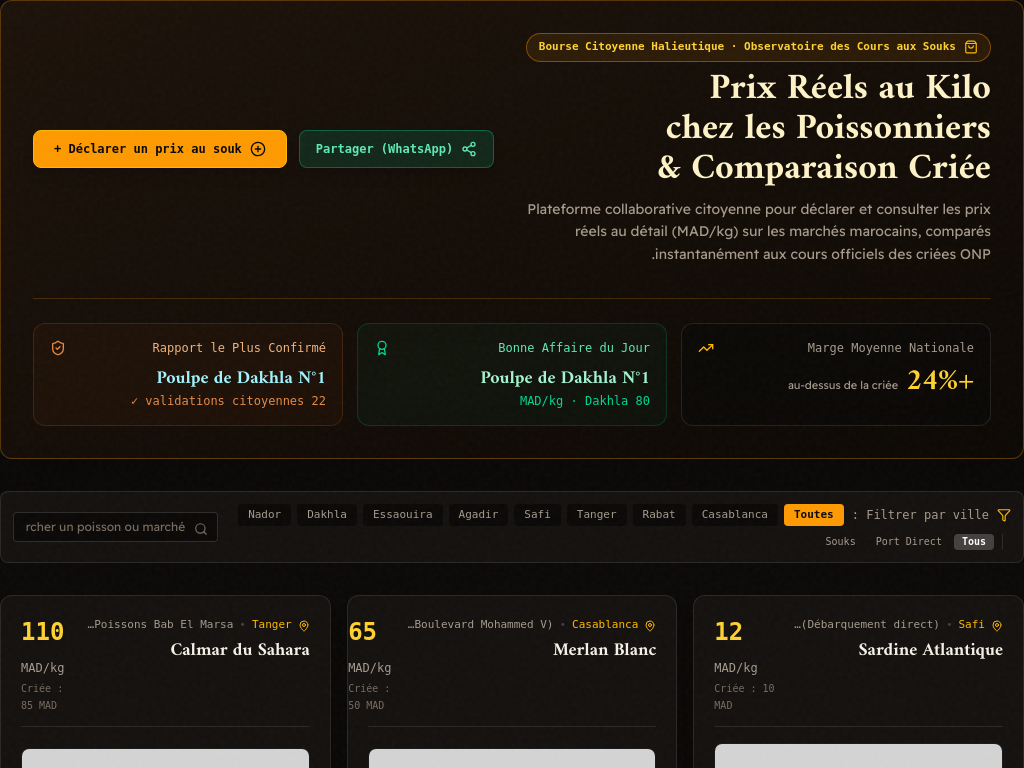
Test: CommunityPriceReporter Component › opens submission form drawer on click
Click the button "Déclarer un prix au souk +".
click(160, 150)  # box [33,130,287,168]
(page scrolled)
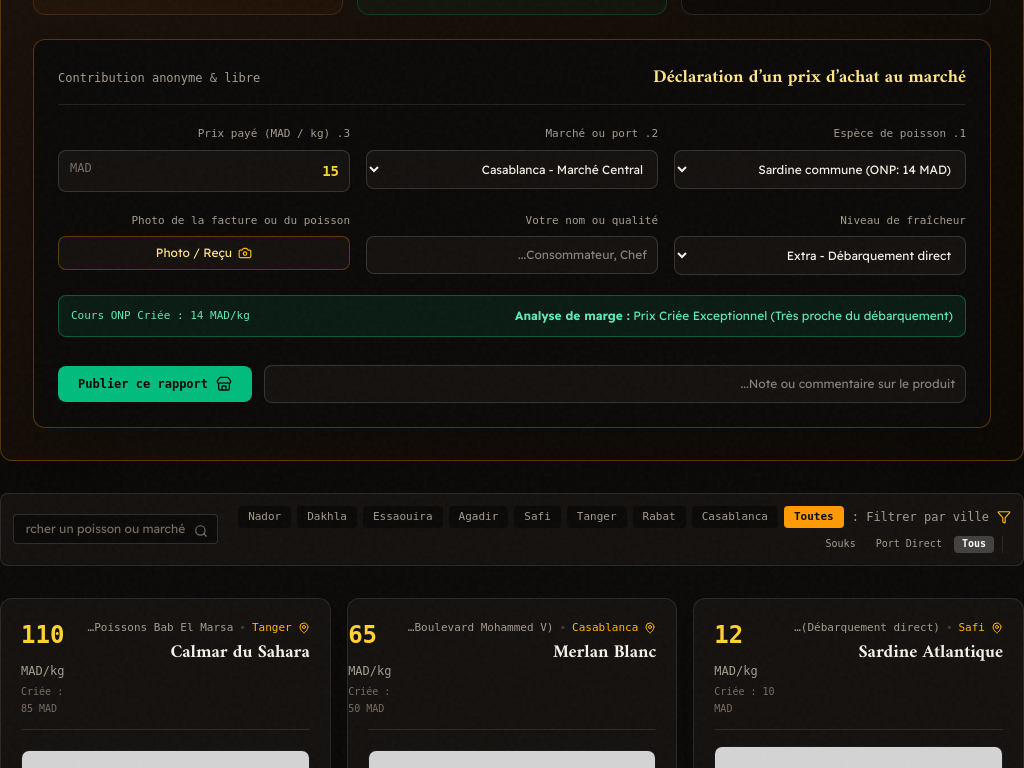
Expected: the heading "Déclaration d’un prix d’achat au marché" is shown, [653,64,966,92]
Expected: the button "Publier ce rapport" is shown, [58,366,252,402]
